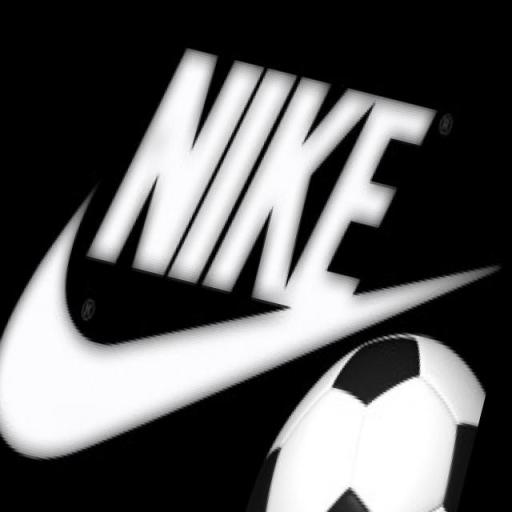Nike: (0, 181, 452, 512), (82, 33, 441, 338)
